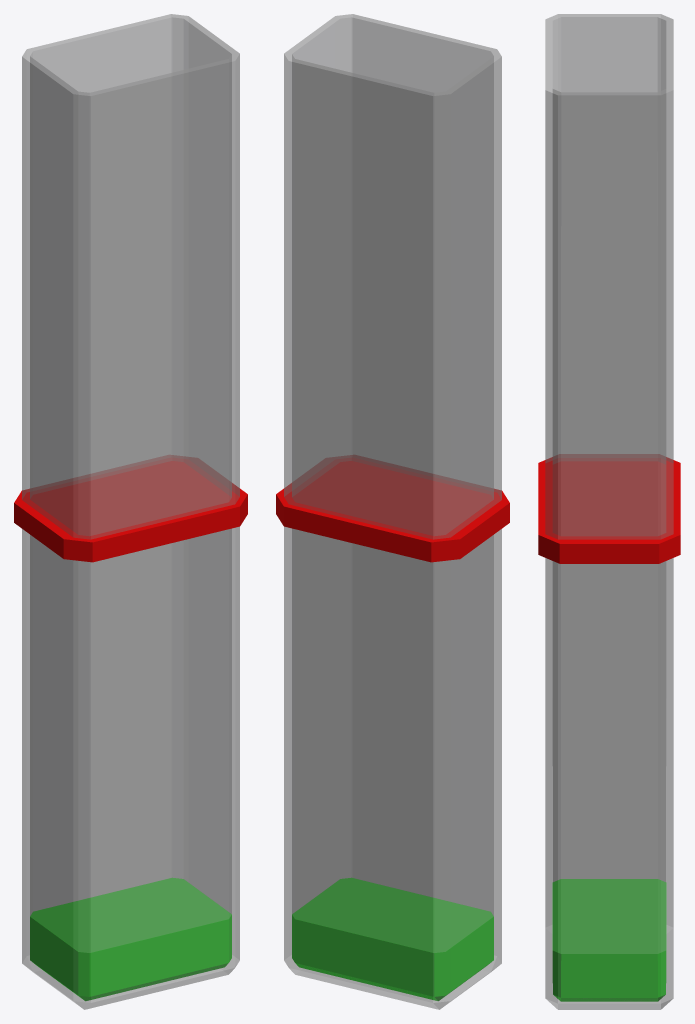
Rendered from Jauge_anime.fbx.
3 views of the same model, side by side, from view 1: azimuth 30°, elevation 25°; view 2: azimuth 150°, elevation 25°; view 3: azimuth 270°, elevation 25° (orthographic).
Visible parts, largest first — view 1: verre, liquide, niveau; view 2: verre, liquide, niveau; view 3: verre, niveau, liquide.
Boxes of the visible parts, x1,y1,x2,y2 form: verre: (22, 14, 239, 1009); liquide: (30, 878, 231, 1000); niveau: (14, 457, 247, 562); verre: (284, 14, 501, 1009); liquide: (292, 878, 493, 1000); niveau: (276, 457, 509, 562); verre: (545, 14, 673, 1009); niveau: (538, 457, 680, 563); liquide: (552, 879, 666, 1001).
Bounding box in the file's own units: 0.4145 × 1.98 × 0.2763.
